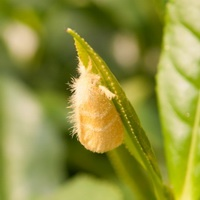insect: (67, 28, 123, 152), (68, 57, 123, 152)
